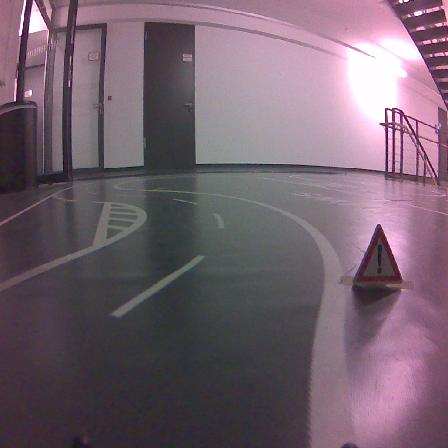ATTENTION: (353, 224, 402, 285)
